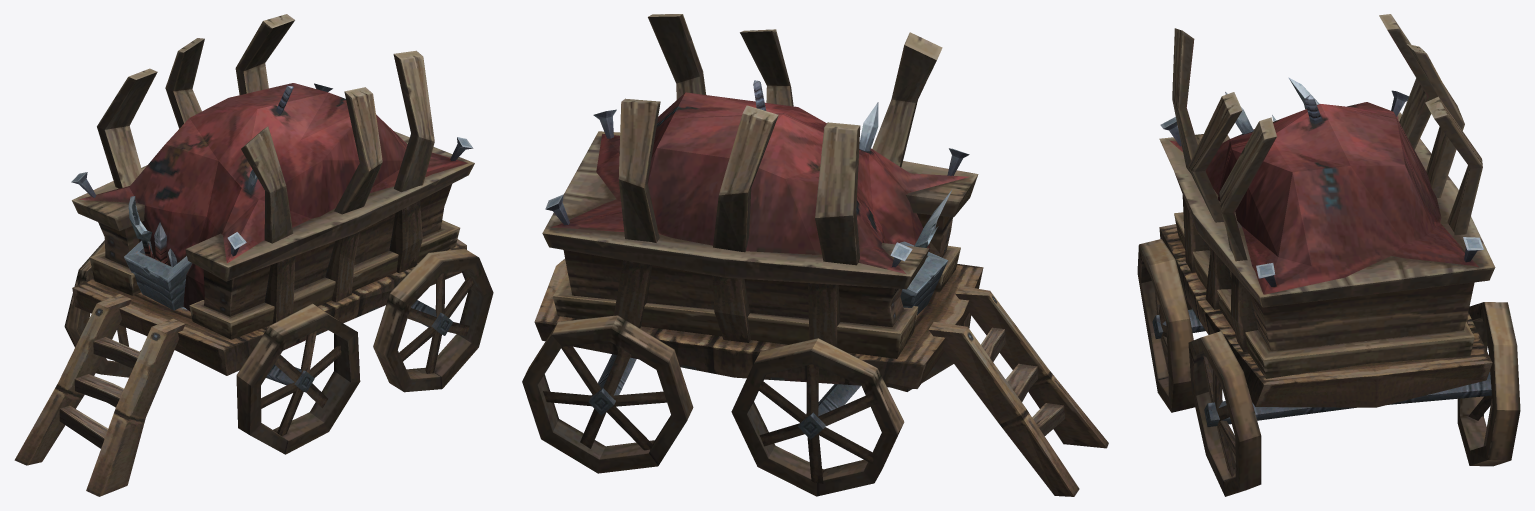
The model's file is building_caravan01.fbx.
The picture shows the model from 3 angles, left to right: view 1: azimuth 30°, elevation 25°; view 2: azimuth 150°, elevation 25°; view 3: azimuth 270°, elevation 25°; orthographic projection. The views are drawn at different scales.
Parts seen in each view (by area): view 1: obj1.002; view 2: obj1.002; view 3: obj1.002.
Part boxes in pixels (x1,y1,x2,y2): obj1.002: (14,14,493,496); obj1.002: (522,14,1108,496); obj1.002: (1137,14,1520,496).
Size of the model in its own units: 5.22 by 3.67 by 3.45.
